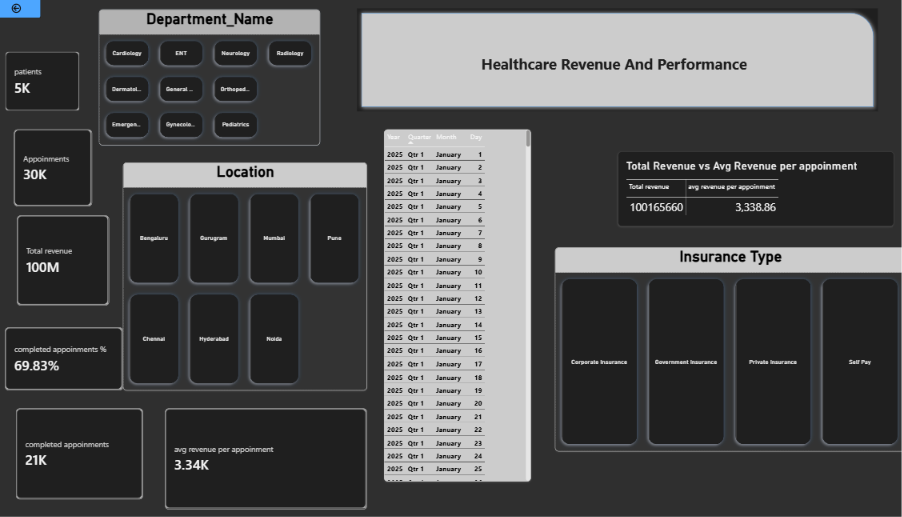

The page's visual inventory and layout, read from the dashboard file:
{"tool":"powerbi","page":{"name":"healthcare revenue and performance","canvas":[1920,1080],"ordinal":1},"visuals":[{"type":"cardVisual","title":"patient count","fields":{"Data":["Appointments.patient count"]},"box":[26.8,109.1,154.4,123.5],"z":0},{"type":"cardVisual","title":"t","fields":{"Data":["Appointments.Appoinments"]},"box":[45.3,269.6,160.5,158.5],"z":1000},{"type":"tableEx","fields":{"Values":["Date.Date.Variation.Date Hierarchy.Year","Date.Date.Variation.Date Hierarchy.Quarter","Date.Date.Variation.Date Hierarchy.Month","Date.Date.Variation.Date Hierarchy.Day"]},"box":[806.9,269.6,302.6,724.5],"z":2000},{"type":"advancedSlicerVisual","title":"Insurance Type","fields":{"Values":["Patients.Insurance_Type"]},"box":[1158.8,512.5,722.5,419.9],"z":3000},{"type":"advancedSlicerVisual","fields":{"Values":["Departments.Department_Name"]},"box":[220.2,22.6,454.9,279.9],"z":4000},{"type":"cardVisual","fields":{"Data":["Appointments.Total revenue"]},"box":[51.5,446.7,189.4,185.2],"z":5000},{"type":"cardVisual","fields":{"Data":["Appointments.avg revenue per appoinment"]},"box":[356.1,843.9,415.8,207.9],"z":6000},{"type":"advancedSlicerVisual","fields":{"Values":["Departments.Location"]},"box":[269.6,337.6,502.2,469.3],"z":7000},{"type":"cardVisual","fields":{"Data":["Appointments.completed appoinments"]},"box":[49.4,843.9,261.4,187.3],"z":8000},{"type":"cardVisual","fields":{"Data":["Appointments.completed appoinments %"]},"box":[26.8,677.2,242.9,129.7],"z":9000},{"type":"actionButton","box":[0,0,100,40],"z":11000},{"type":"tableEx","title":"Total Revenue vs Avg Revenue per appoinment","fields":{"Values":["Appointments.Total revenue","Appointments.avg revenue per appoinment"]},"box":[1288.5,314.9,568.1,154.4],"z":12000},{"type":"shape","box":[751.3,20.6,1072.4,212],"z":13000}]}

Visuals, with their boxes in screenshot pixels (x1, y1, x2, y2), scaled from the page's 1920x1080 canvas onto the 902x517 screenshot:
"patient count" cardVisual: bbox(13, 52, 85, 111)
"t" cardVisual: bbox(21, 129, 97, 205)
tableEx - Date.Date.Variation.Date Hierarchy.Year x Date.Date.Variation.Date Hierarchy.Quarter: bbox(379, 129, 521, 476)
"Insurance Type" advancedSlicerVisual: bbox(544, 245, 884, 446)
advancedSlicerVisual - Departments.Department_Name: bbox(103, 11, 317, 145)
cardVisual - Appointments.Total revenue: bbox(24, 214, 113, 302)
cardVisual - Appointments.avg revenue per appoinment: bbox(167, 404, 363, 504)
advancedSlicerVisual - Departments.Location: bbox(127, 162, 363, 386)
cardVisual - Appointments.completed appoinments: bbox(23, 404, 146, 494)
cardVisual - Appointments.completed appoinments %: bbox(13, 324, 127, 386)
actionButton: bbox(0, 0, 47, 19)
"Total Revenue vs Avg Revenue per appoinment" tableEx: bbox(605, 151, 872, 225)
shape: bbox(353, 10, 857, 111)
